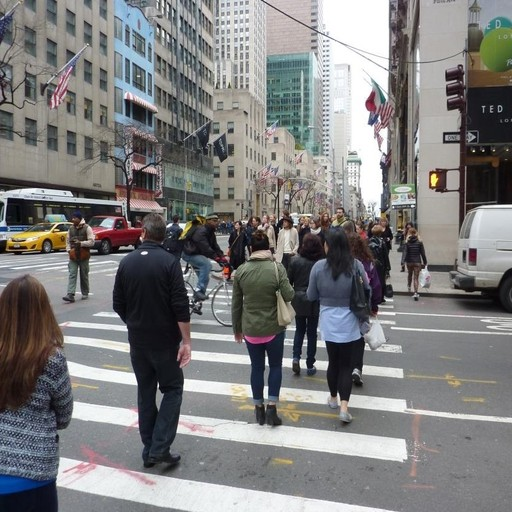Car: (1, 218, 80, 254), (400, 227, 432, 305)
Pedestrian: (112, 210, 198, 470), (1, 272, 75, 512), (304, 225, 374, 427), (231, 228, 295, 433), (62, 207, 98, 304)
